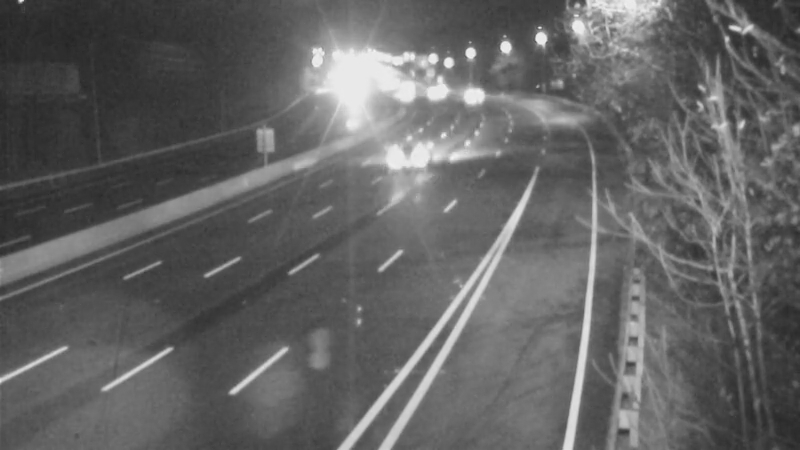vehicle: (369, 118, 449, 198), (385, 62, 435, 112), (445, 68, 495, 118)
